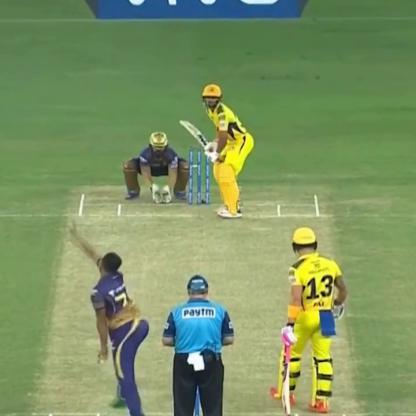ball: (95, 354, 107, 366), (93, 352, 110, 356)
bat: (170, 112, 218, 160), (279, 322, 295, 414)
pitch: (30, 193, 358, 415)
